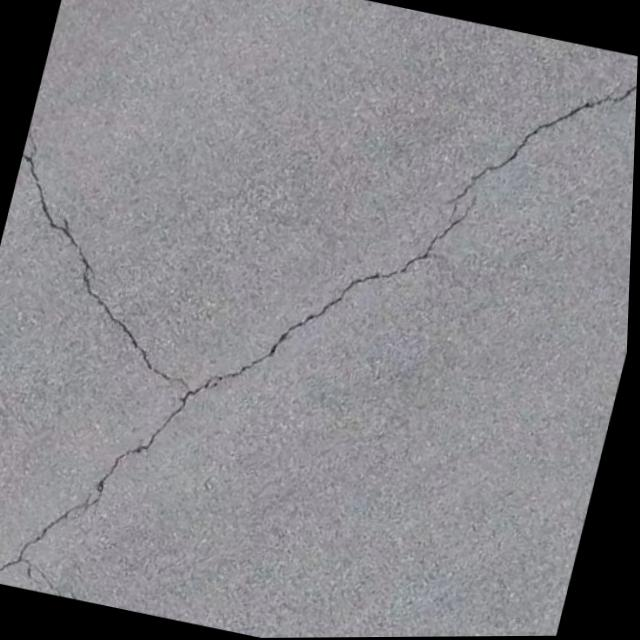Crack: (0, 129, 457, 640), (421, 20, 639, 269)
